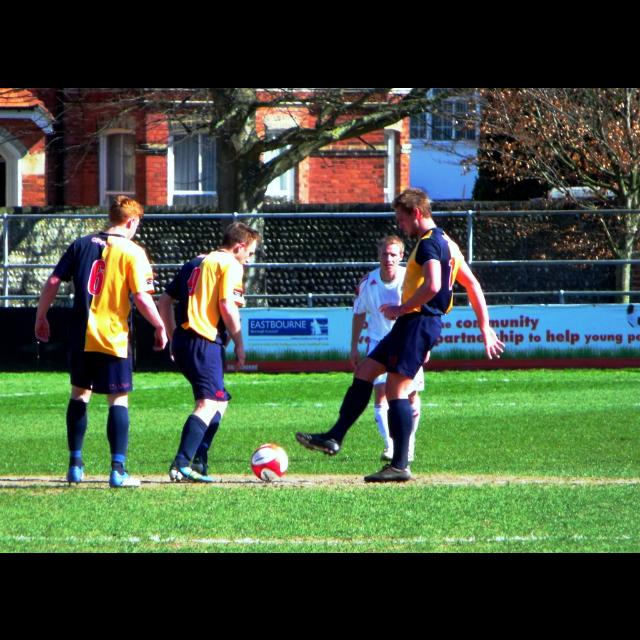Football: (248, 442, 286, 482)
